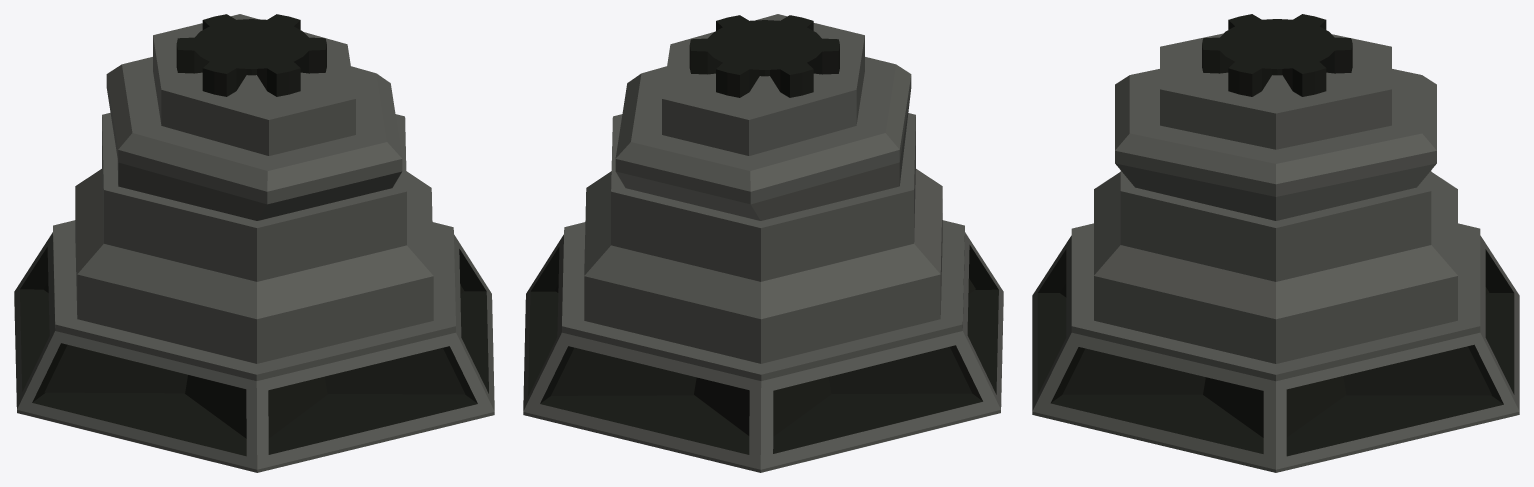
File: AssemblerGround3.fbx
The picture shows the model from 3 angles, left to right: view 1: azimuth 30°, elevation 25°; view 2: azimuth 150°, elevation 25°; view 3: azimuth 270°, elevation 25°; orthographic projection.
Visible parts, largest first — view 1: AssemblerGround3; view 2: AssemblerGround3; view 3: AssemblerGround3.
Part boxes in pixels (x1,y1,x2,y2): AssemblerGround3: (14,14,494,472); AssemblerGround3: (523,14,1003,472); AssemblerGround3: (1032,14,1519,472).
Bounding box in the file's own units: 139 × 86.72 × 123.
